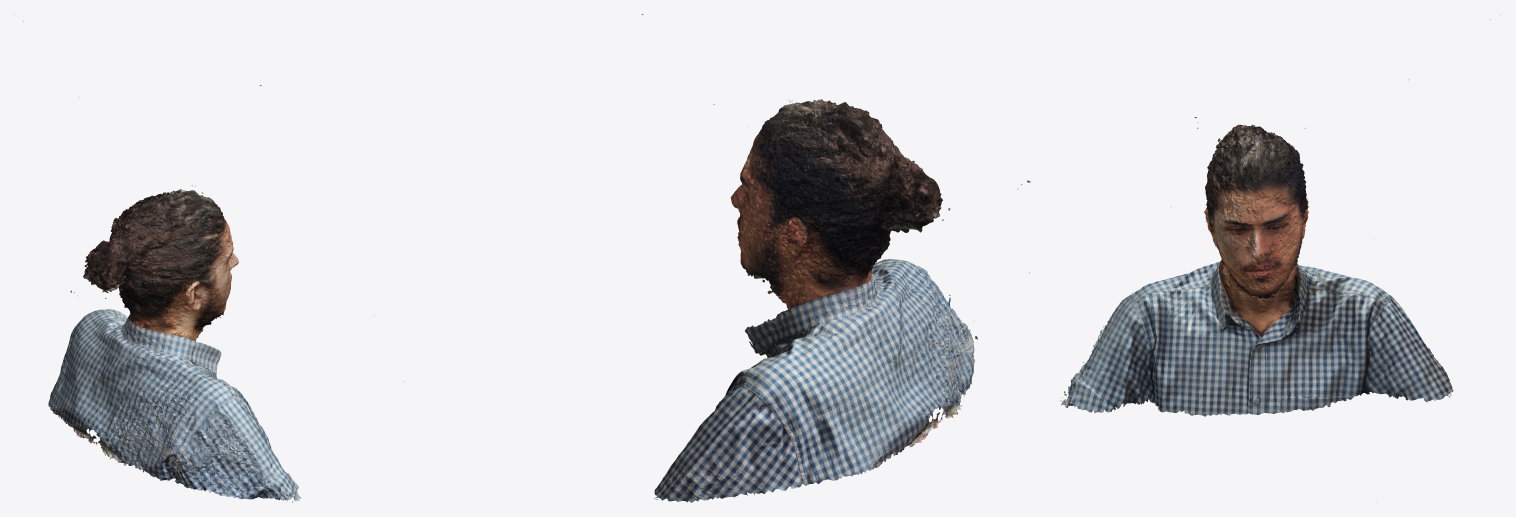
File: Face_sample_2.fbx
3 views of the same model, side by side, from view 1: azimuth 30°, elevation 25°; view 2: azimuth 150°, elevation 25°; view 3: azimuth 270°, elevation 25° (orthographic). The views are drawn at different scales.
Visible parts, largest first — view 1: Sample_Face_2; view 2: Sample_Face_2; view 3: Sample_Face_2.
Boxes of the visible parts, x1,y1,x2,y2 form: Sample_Face_2: (14,14,374,502); Sample_Face_2: (403,14,1030,502); Sample_Face_2: (1060,14,1501,502).
Size of the model in its own units: 8.06 by 6.82 by 7.65.
